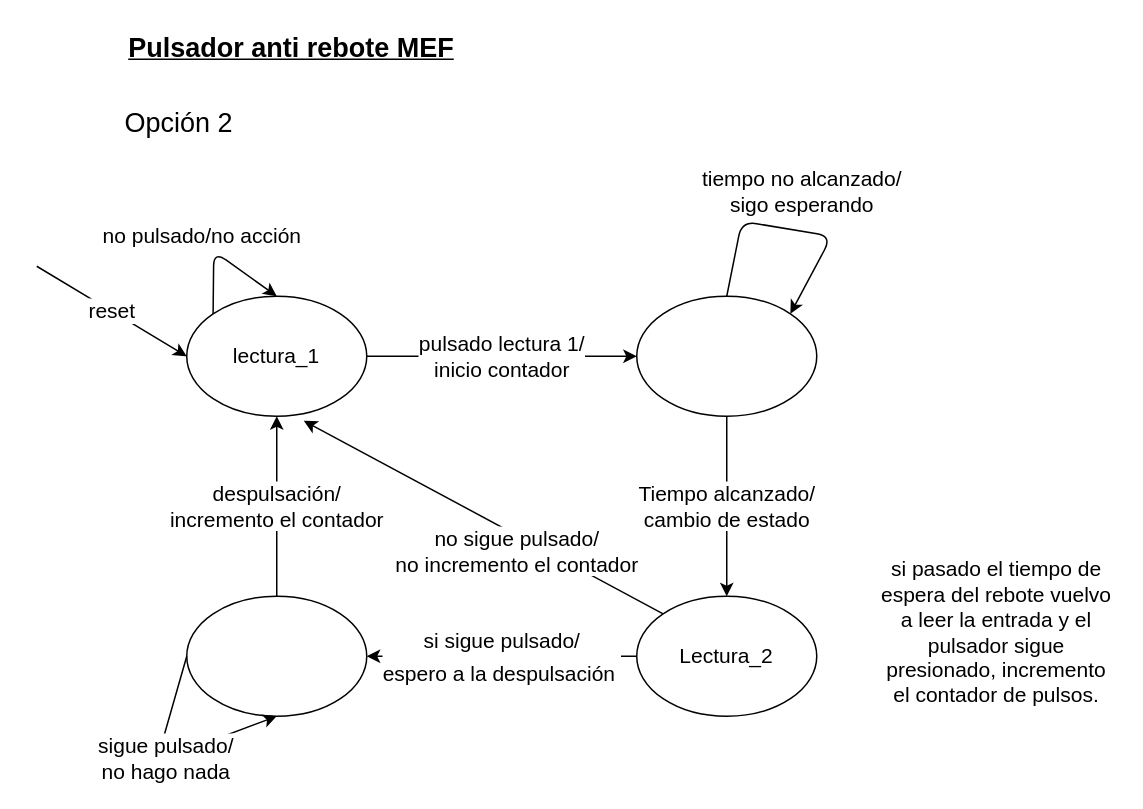
This 1143x809 diagram has some shape labels left out. Here are the shapes that lost their labels. From the top down, the centre of each, then its label:
At (726,355): "espera_1".
At (276,655): "espera_2 sin timer".
